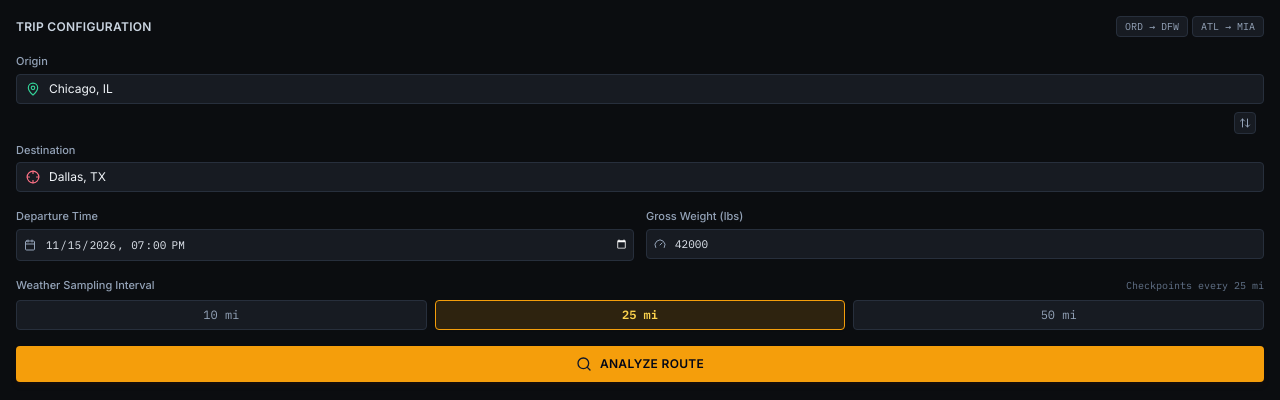
TripForm › swaps origin and destination when swap button is clicked
The width and height of the screenshot is (1280, 400).
Click the button titled "Swap Origin and Destination".
click(1245, 122)  # box [1234,112,1256,134]
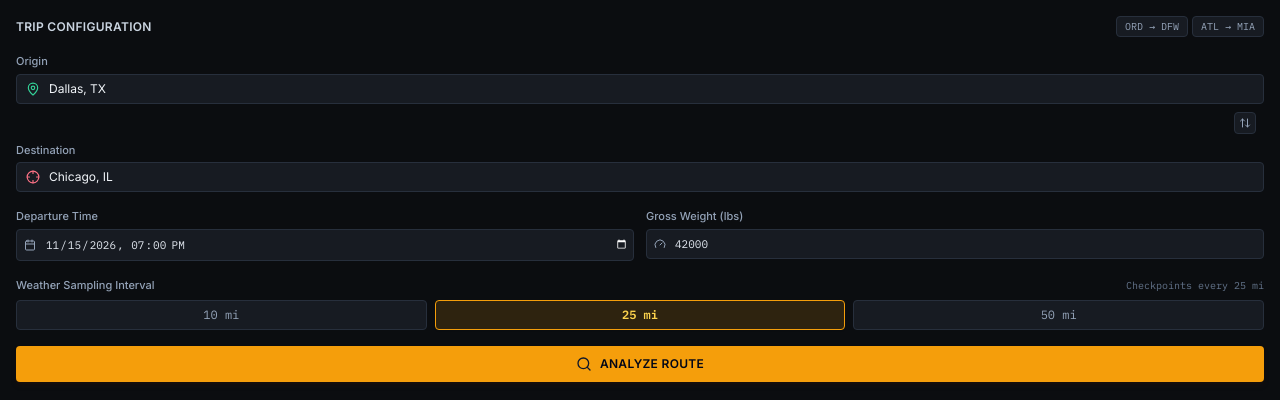
Check: the field labelled "Origin" holds "Dallas, TX", box [16,74,1264,104]
Check: the field labelled "Destination" holds "Chicago, IL", box [16,162,1264,192]
